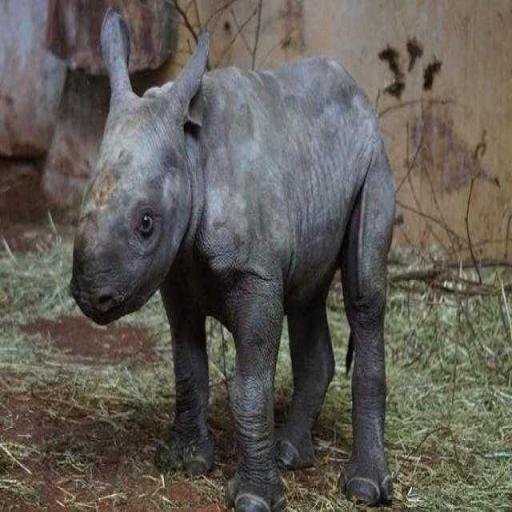Rhino: (69, 8, 397, 511)
